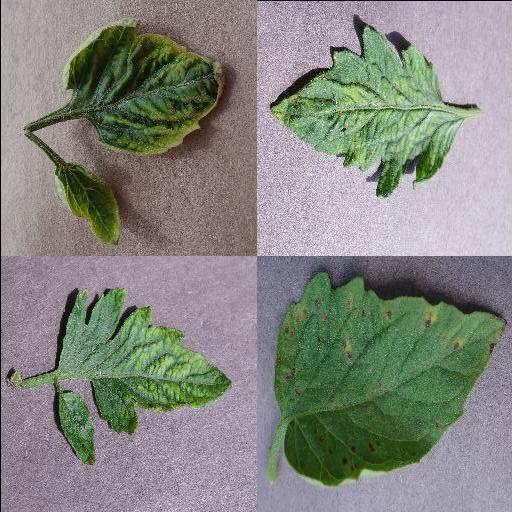Mosaic Virus: (267, 25, 463, 199), (53, 286, 233, 438)
Septoria: (274, 272, 506, 489)
Yellow Leaf Curl Virus: (63, 19, 225, 155), (50, 165, 122, 250)
